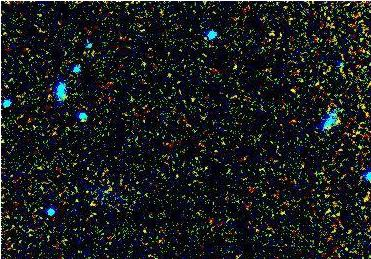star: (278, 75, 308, 105)
